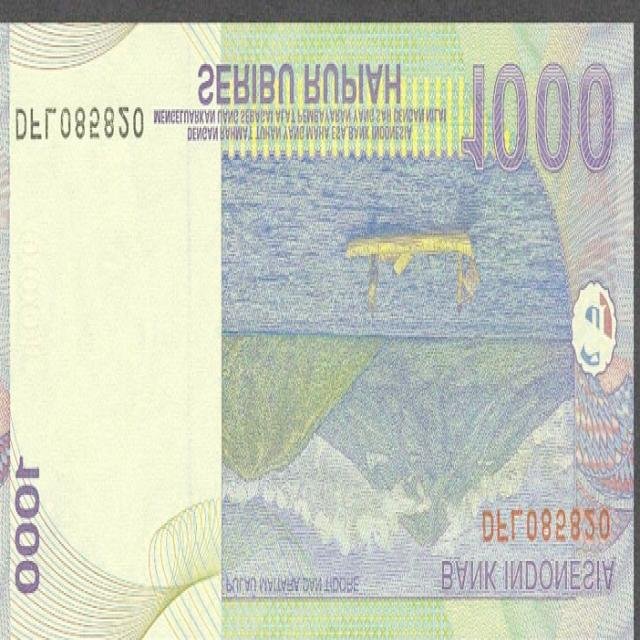seribu rupiah: (0, 21, 634, 640)
